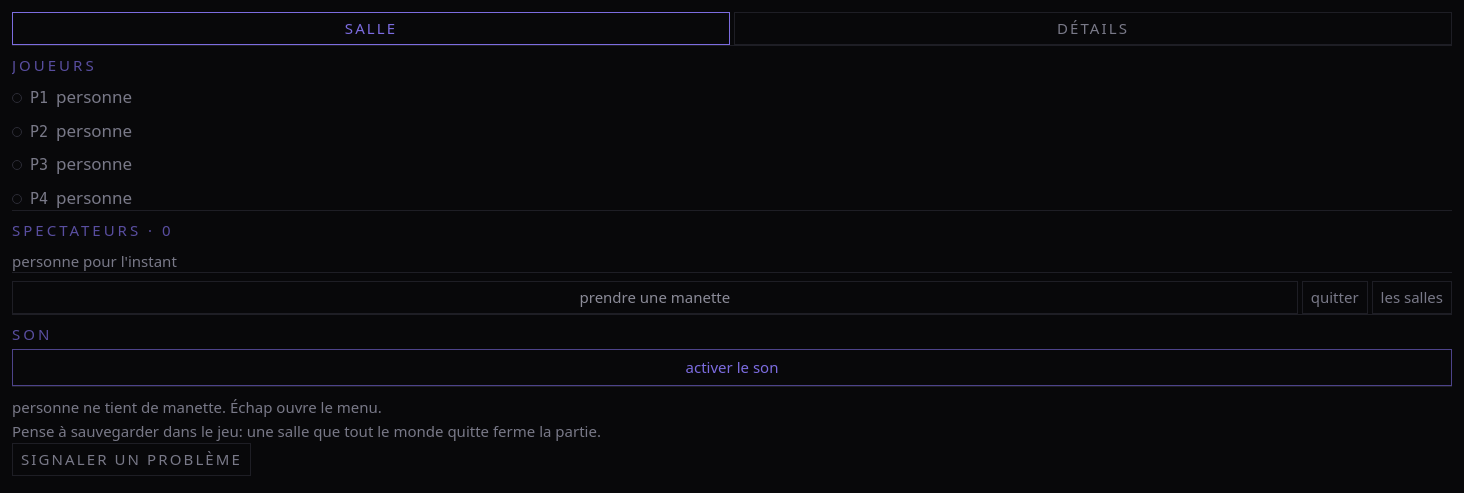
le bouton « ça saccade » › reste désarmé aussi longtemps que le salon refuse
Click the button "signaler un problème": point(131, 460) [12,443,251,476]
Wait 5000 ms
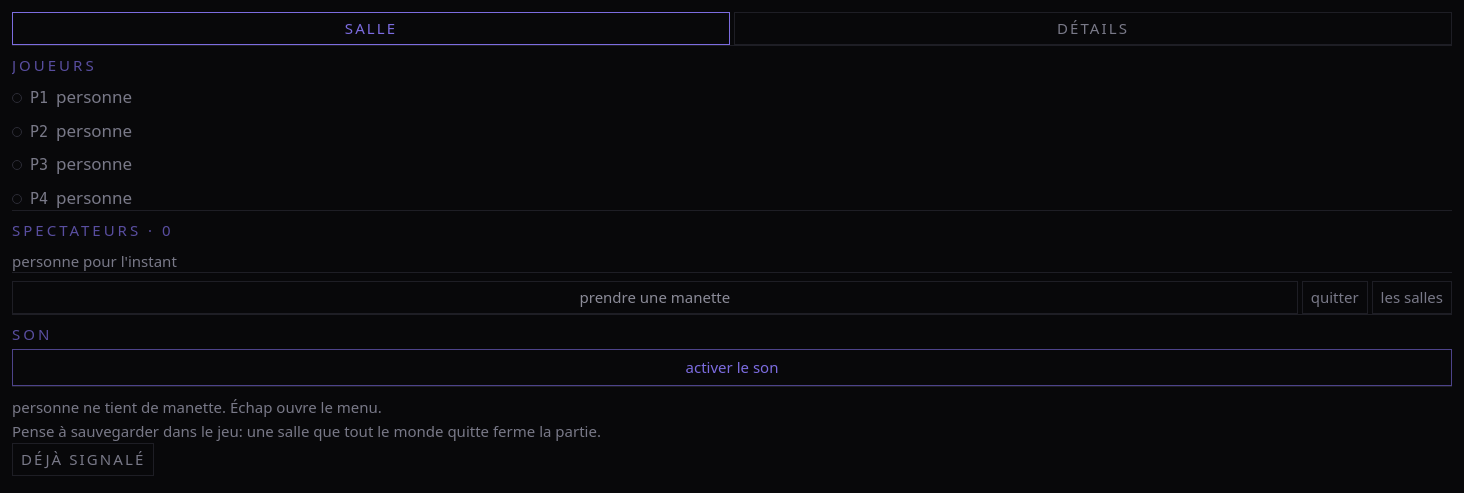
Expected: the button "déjà signalé" is disabled, [12,443,154,476]
